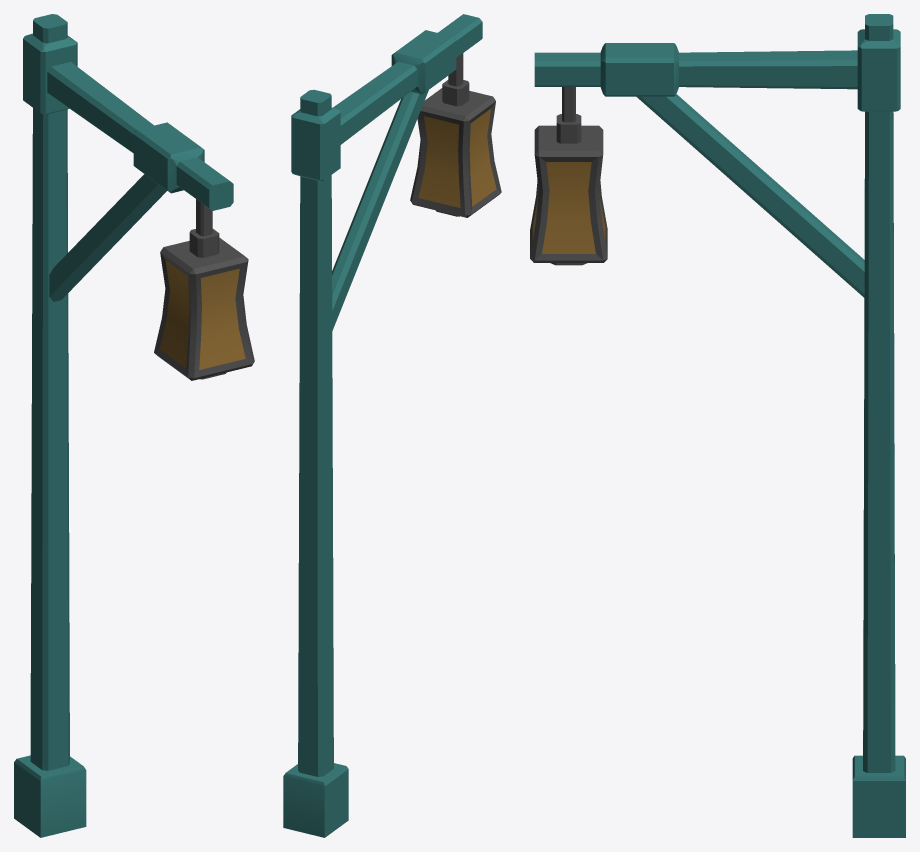
File: streetlight_a003.glb
3 views of the same model, side by side, from view 1: azimuth 30°, elevation 25°; view 2: azimuth 150°, elevation 25°; view 3: azimuth 270°, elevation 25° (orthographic). The views are drawn at different scales.
Visible parts, largest first — view 1: streetlight_a003; view 2: streetlight_a003; view 3: streetlight_a003.
Boxes of the visible parts, x1=… form: streetlight_a003: x1=14, y1=14, x2=254, y2=837; streetlight_a003: x1=283, y1=14, x2=501, y2=837; streetlight_a003: x1=530, y1=14, x2=905, y2=837.
Size of the model in its own units: 0.1676 by 1.92 by 0.8104.
Materials: 1 (1 with a texture image).
